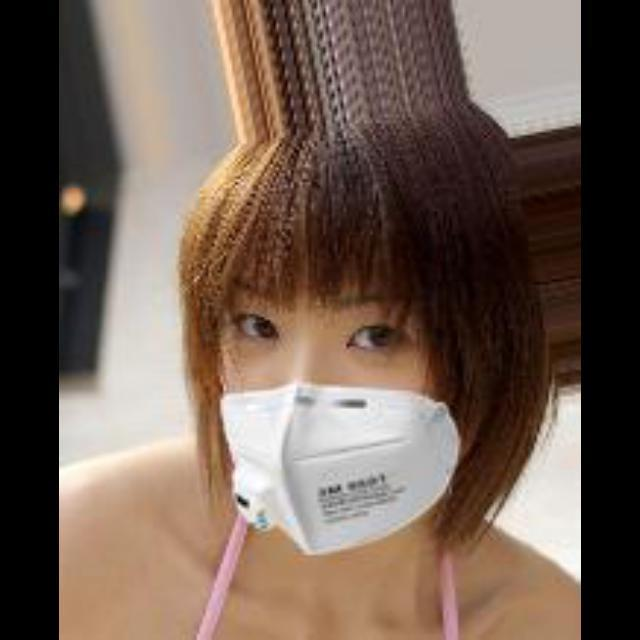suspicion: (175, 197, 509, 546)
